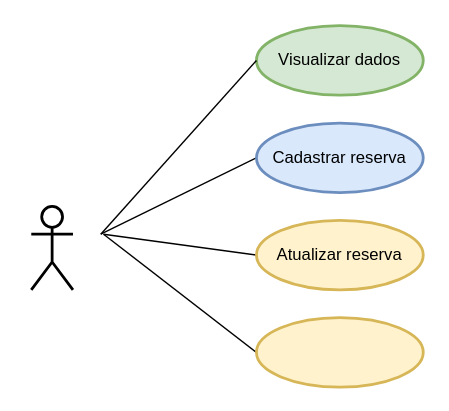
This 449x411 diagram has some shape labels left out. The shapes that lost their labels are listed below. From the top down, each one's box as (x1, y1, x2, y2) in pixels, then its label:
(29, 204, 74, 291): Usuário comum
(254, 316, 424, 388): Atualizar perfil
